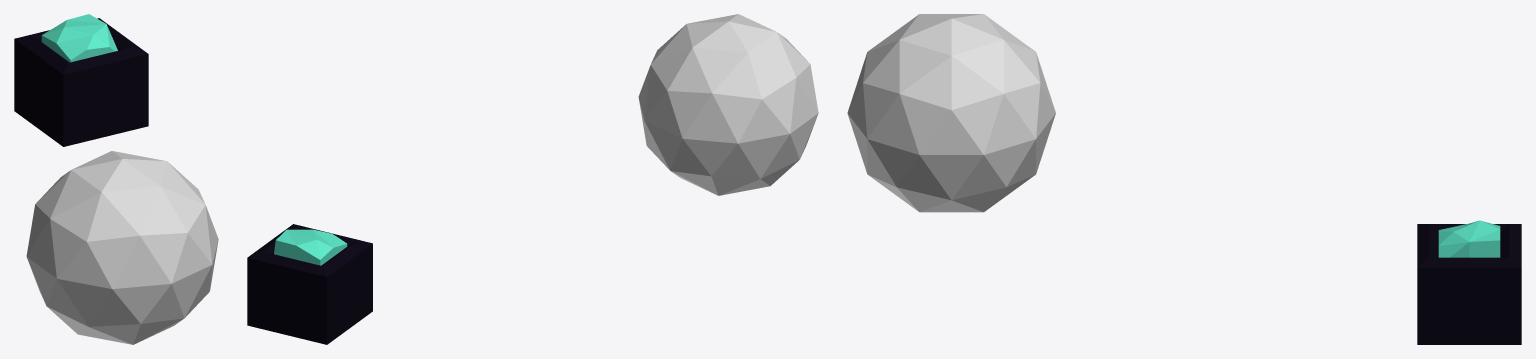
The model's file is glowy_box_3.gltf.
The picture shows the model from 3 angles, left to right: view 1: azimuth 30°, elevation 25°; view 2: azimuth 150°, elevation 25°; view 3: azimuth 270°, elevation 25°; orthographic projection. The views are drawn at different scales.
Visible parts, largest first — view 1: Icosphere, Cube; view 2: Icosphere, Cube; view 3: Icosphere, Cube.
Boxes of the visible parts, x1,y1,x2,y2 form: Icosphere: [26, 151, 218, 344]; Cube: [14, 14, 148, 146]; Icosphere: [638, 14, 818, 195]; Cube: [247, 224, 372, 344]; Icosphere: [847, 14, 1055, 212]; Cube: [1417, 220, 1521, 344].
Size of the model in its own units: 3.83 by 2.11 by 6.46.
